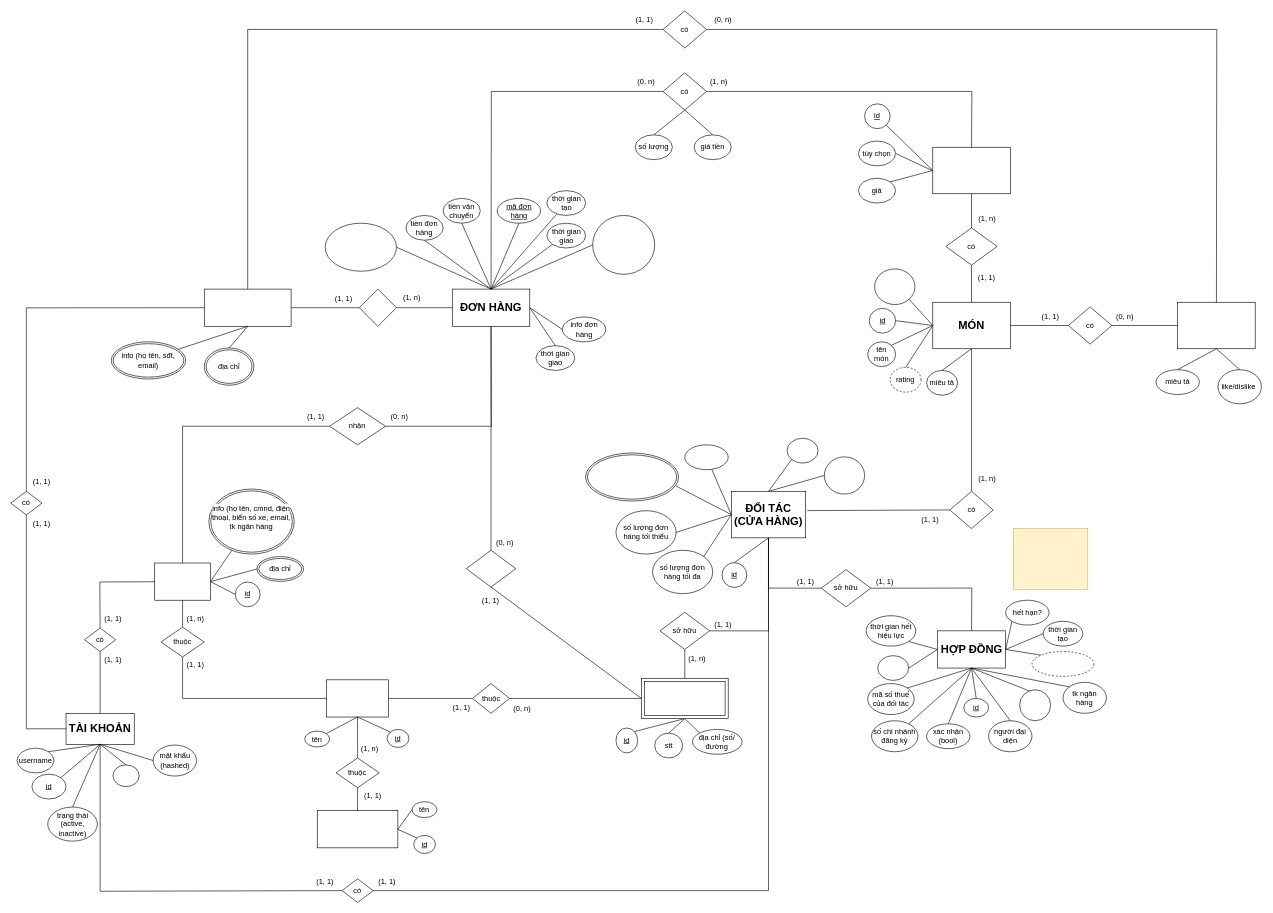
Image size: 1273x913. Some labels were removed from this diagram. Here are the shapes that lost their labels. From the top down, the box of each, then its label:
(932, 147, 1010, 194): TÙY CHỌN MÓN
(325, 223, 396, 271): trạng thái (chờ xác nhận, đã xác nhận, đã hủy)
(592, 215, 655, 274): quá trình (đang chuẩn bị, đã nhận, đang giao, đã giao
(874, 268, 915, 305): tình trạng món
(204, 288, 291, 326): KHÁCH HÀNG
(359, 288, 396, 326): tạo
(1177, 302, 1255, 349): ĐÁNH GIÁ
(684, 444, 728, 470): tên cửa hàng
(786, 438, 818, 463): tình trạng
(585, 452, 679, 501): info (emaill, người đại diện, tk ngân hàng, sđt)
(824, 456, 865, 494): loại ẩm thực
(466, 550, 516, 587): quản lí
(1013, 528, 1088, 589): lưu tạm info đăng ký để nhân viên xác nhân
(154, 562, 210, 600): TÀI XẾ
(877, 655, 909, 680): % hoa hồng
(1031, 651, 1094, 676): thời gian xác nhận (cập nhật)
(326, 679, 389, 717): QUẬN (HUYỆN)
(641, 678, 728, 719): CHI NHÁNH
(1019, 689, 1051, 721): mã truy cập
(112, 764, 139, 787): vai trò
(317, 810, 398, 848): THÀNH PHỐ (TỈNH)
